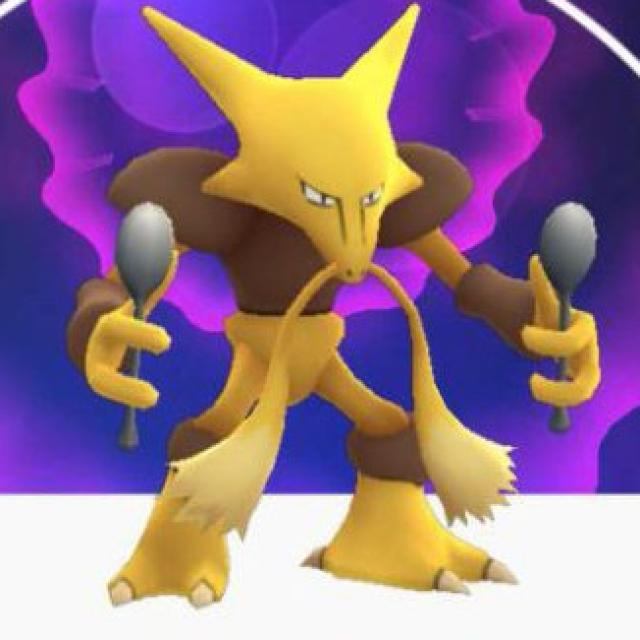Alakazam: (77, 6, 503, 612)
